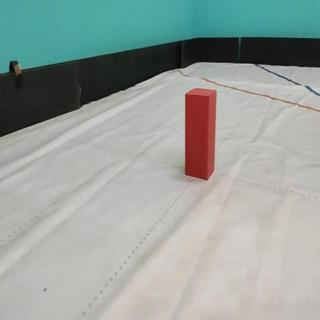redbox: (184, 86, 217, 181)
